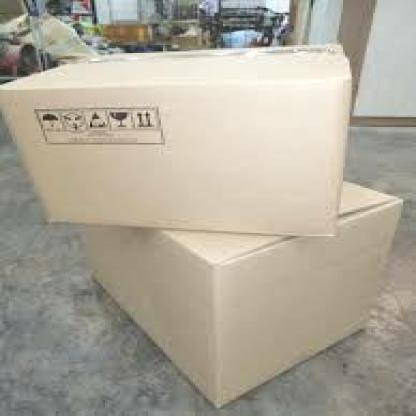box: (61, 195, 410, 412), (2, 50, 358, 248)
